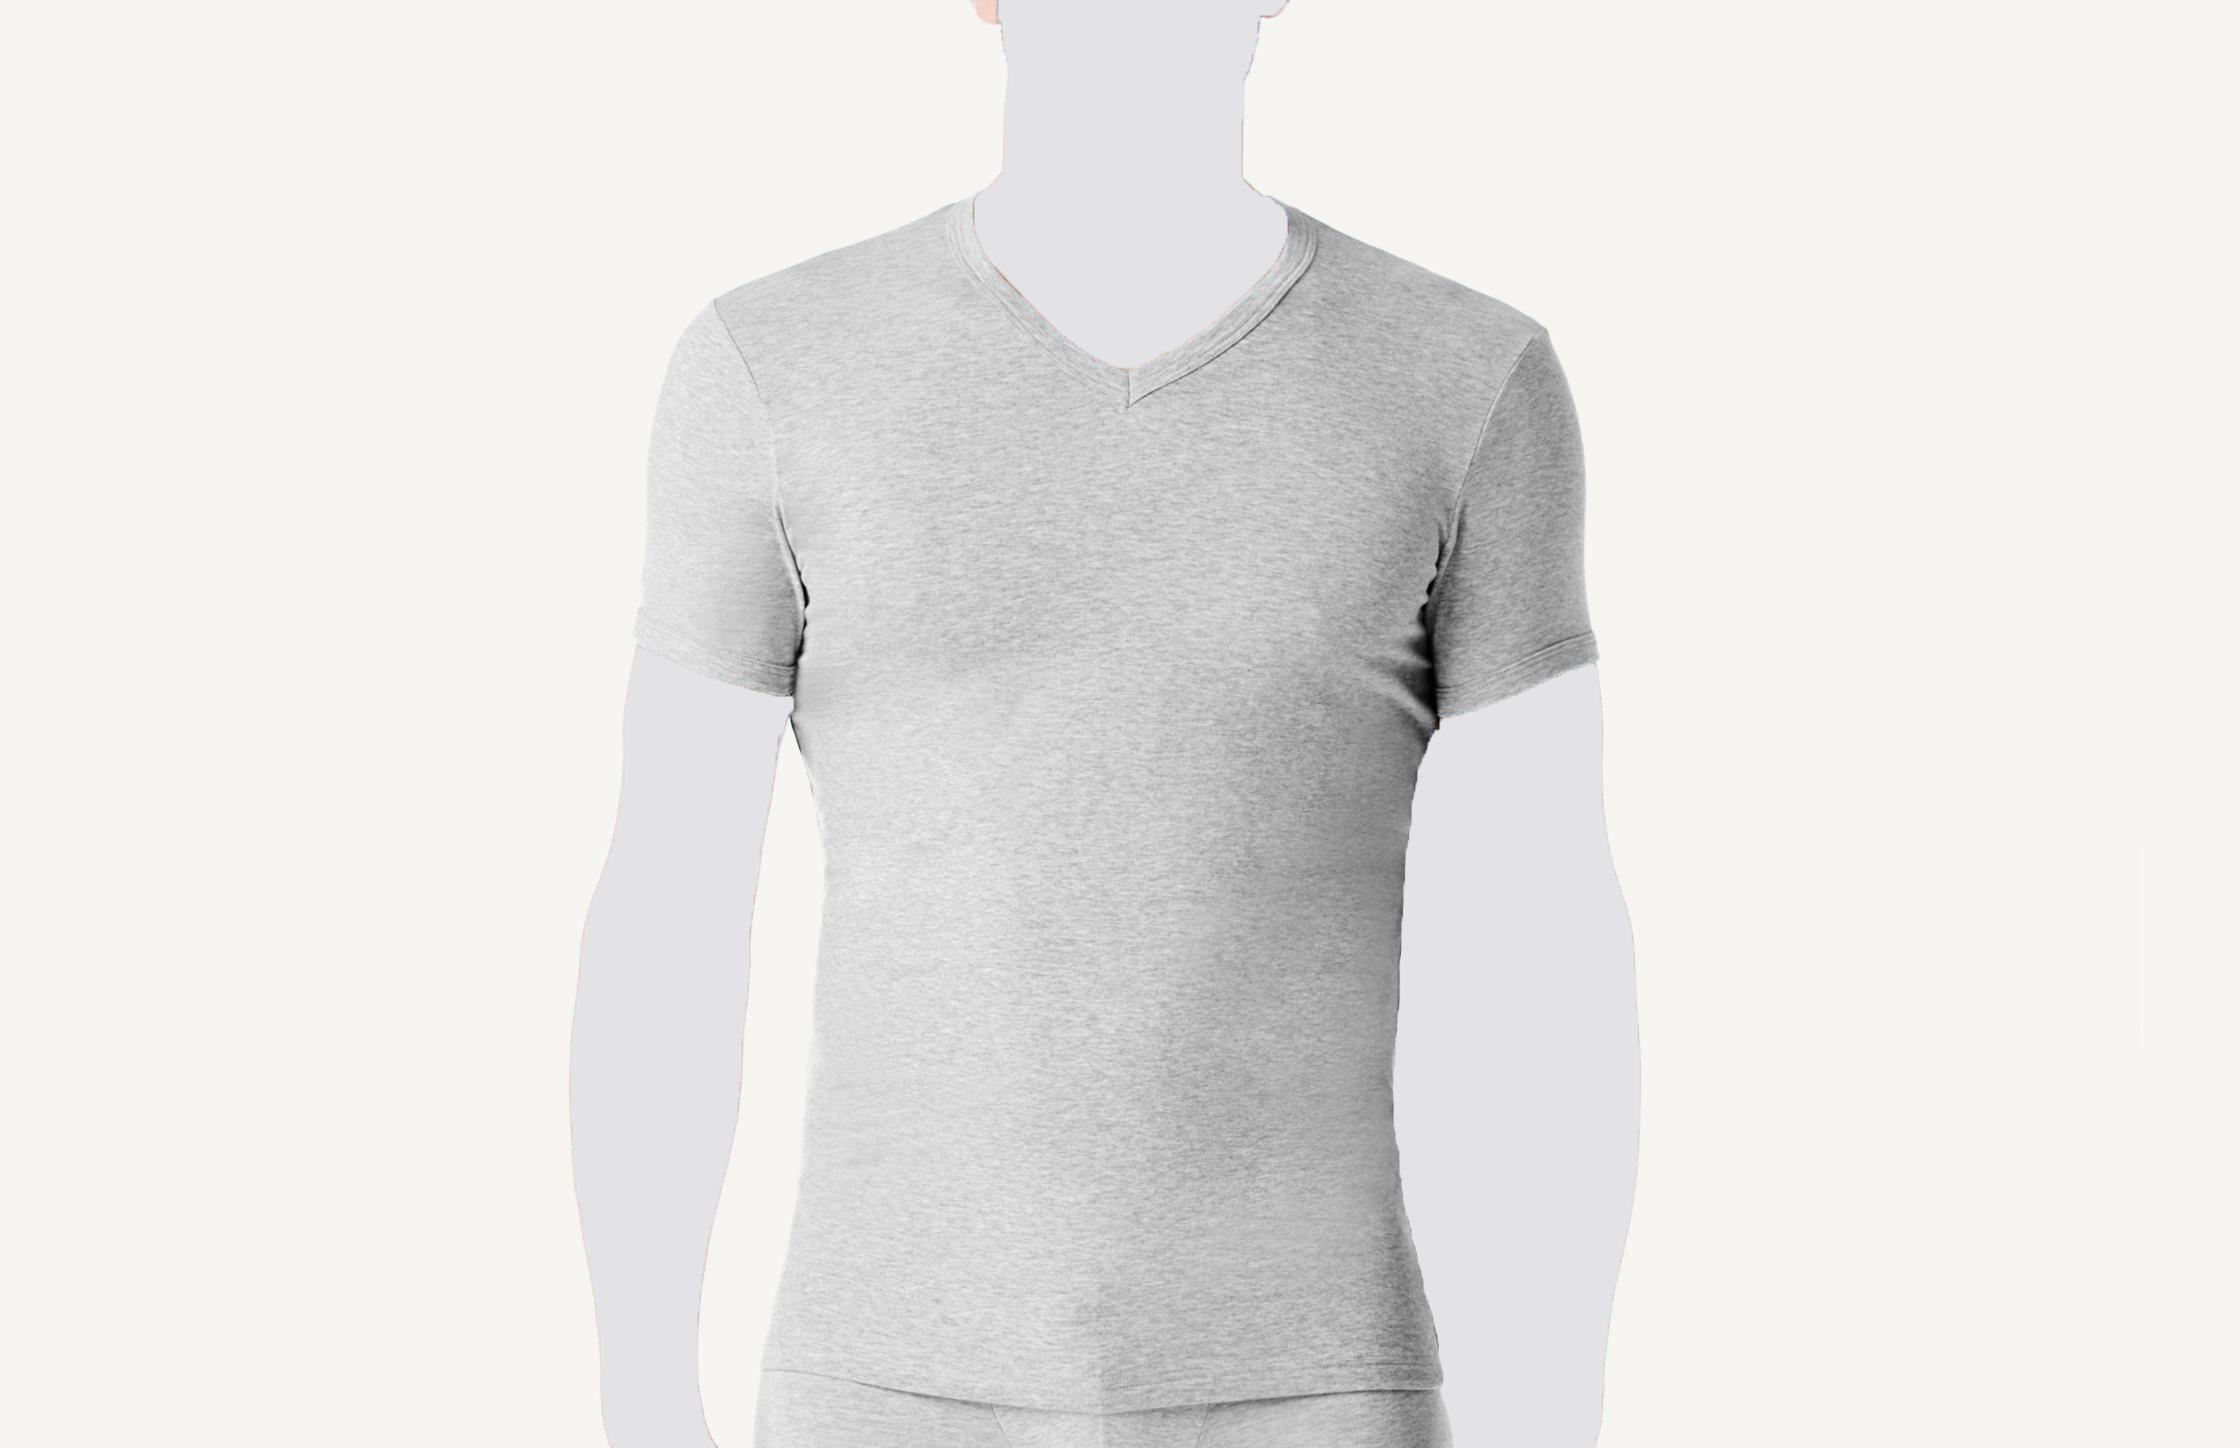teeshirt: (614, 171, 1603, 1448)
